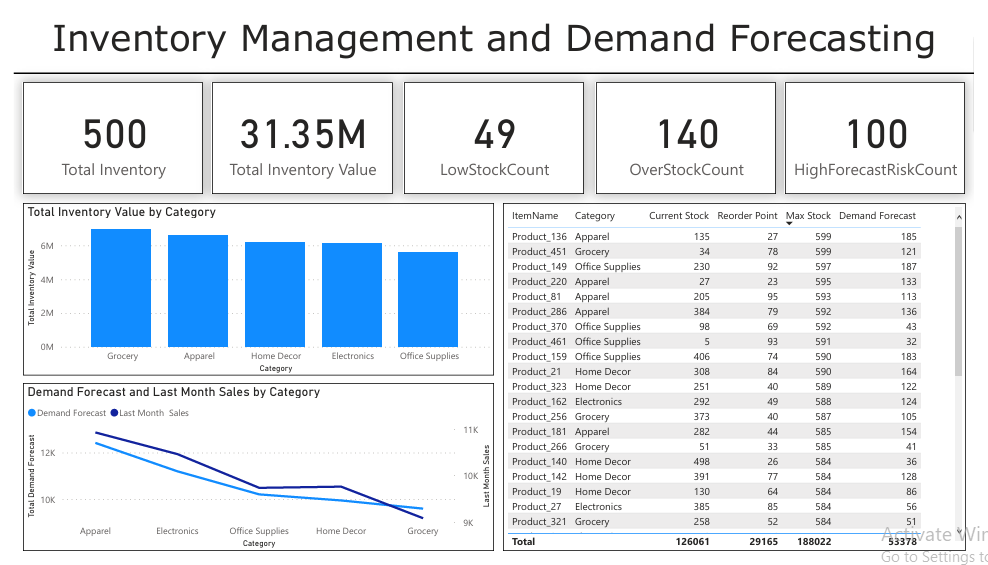

This screenshot's page, from the dashboard's own definition file:
{"tool":"powerbi","page":{"name":"Page 1","canvas":[1280,720],"ordinal":0},"visuals":[{"type":"textbox","box":[0,0,1280,81.3],"z":0},{"type":"shape","box":[0,76.2,1280,13.5],"z":1},{"type":"card","fields":{"Values":["CountNonNull(Sheet1.ItemName)"]},"box":[11.9,94.8,240,149],"z":2,"group":"g1"},{"type":"card","fields":{"Values":["Sum(Sheet1.InventoryValue)"]},"box":[264.2,94.8,240.4,149],"z":3,"group":"g1"},{"type":"card","fields":{"Values":["Sheet1.LowStockCount"]},"box":[519.8,94.8,240.4,149],"z":4,"group":"g1"},{"type":"card","fields":{"Values":["Sheet1.HighForecastRisk"]},"box":[1027.8,94.8,240.4,149],"z":5,"group":"g1"},{"type":"card","fields":{"Values":["Sheet1.OverStockCount"]},"box":[775.5,94.8,240.4,149],"z":6,"group":"g1"},{"type":"columnChart","fields":{"Category":["Sheet1.Category"],"Y":["Sum(Sheet1.InventoryValue)"]},"box":[11.9,255.7,628.1,230.3],"z":7},{"type":"lineChart","fields":{"Category":["Sheet1.Category"],"Y":["Sum(Sheet1.ForecastNextMonth)"],"Y2":["Sum(Sheet1.LastMonthSales)"]},"box":[11.9,496.1,628.1,223.5],"z":8},{"type":"tableEx","fields":{"Values":["Sheet1.ItemName","Sheet1.Category","Sum(Sheet1.CurrentStock)","Sum(Sheet1.ReorderPoint)","Sum(Sheet1.MaxStock)","Sum(Sheet1.ForecastNextMonth)"]},"box":[652.3,256.3,616.3,463.7],"z":9},{"type":"group","id":"g1","title":"Group 1","box":[11.9,94.8,1256.3,149],"z":10}]}

Visuals, with their boxes in screenshot pixels (x1, y1, x2, y2), scaled from the page's 1280x720 canvas onto the 988x565 screenshot:
textbox: detection(0, 0, 987, 64)
shape: detection(0, 60, 987, 70)
card - CountNonNull(Sheet1.ItemName): detection(9, 74, 194, 191)
card - Sum(Sheet1.InventoryValue): detection(204, 74, 389, 191)
card - Sheet1.LowStockCount: detection(401, 74, 587, 191)
card - Sheet1.HighForecastRisk: detection(793, 74, 979, 191)
card - Sheet1.OverStockCount: detection(599, 74, 784, 191)
columnChart - Sheet1.Category x Sum(Sheet1.InventoryValue): detection(9, 201, 494, 381)
lineChart - Sheet1.Category x Sum(Sheet1.ForecastNextMonth): detection(9, 389, 494, 564)
tableEx - Sheet1.ItemName x Sheet1.Category: detection(503, 201, 979, 564)
"Group 1" group: detection(9, 74, 979, 191)
